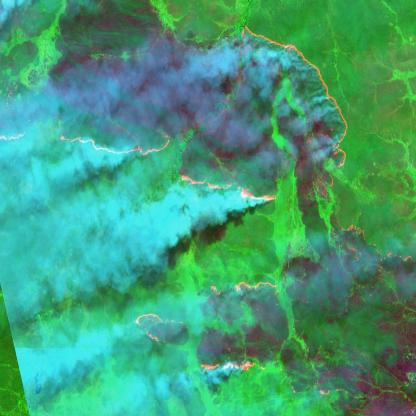fire: (0, 0, 352, 207), (126, 223, 416, 399)
